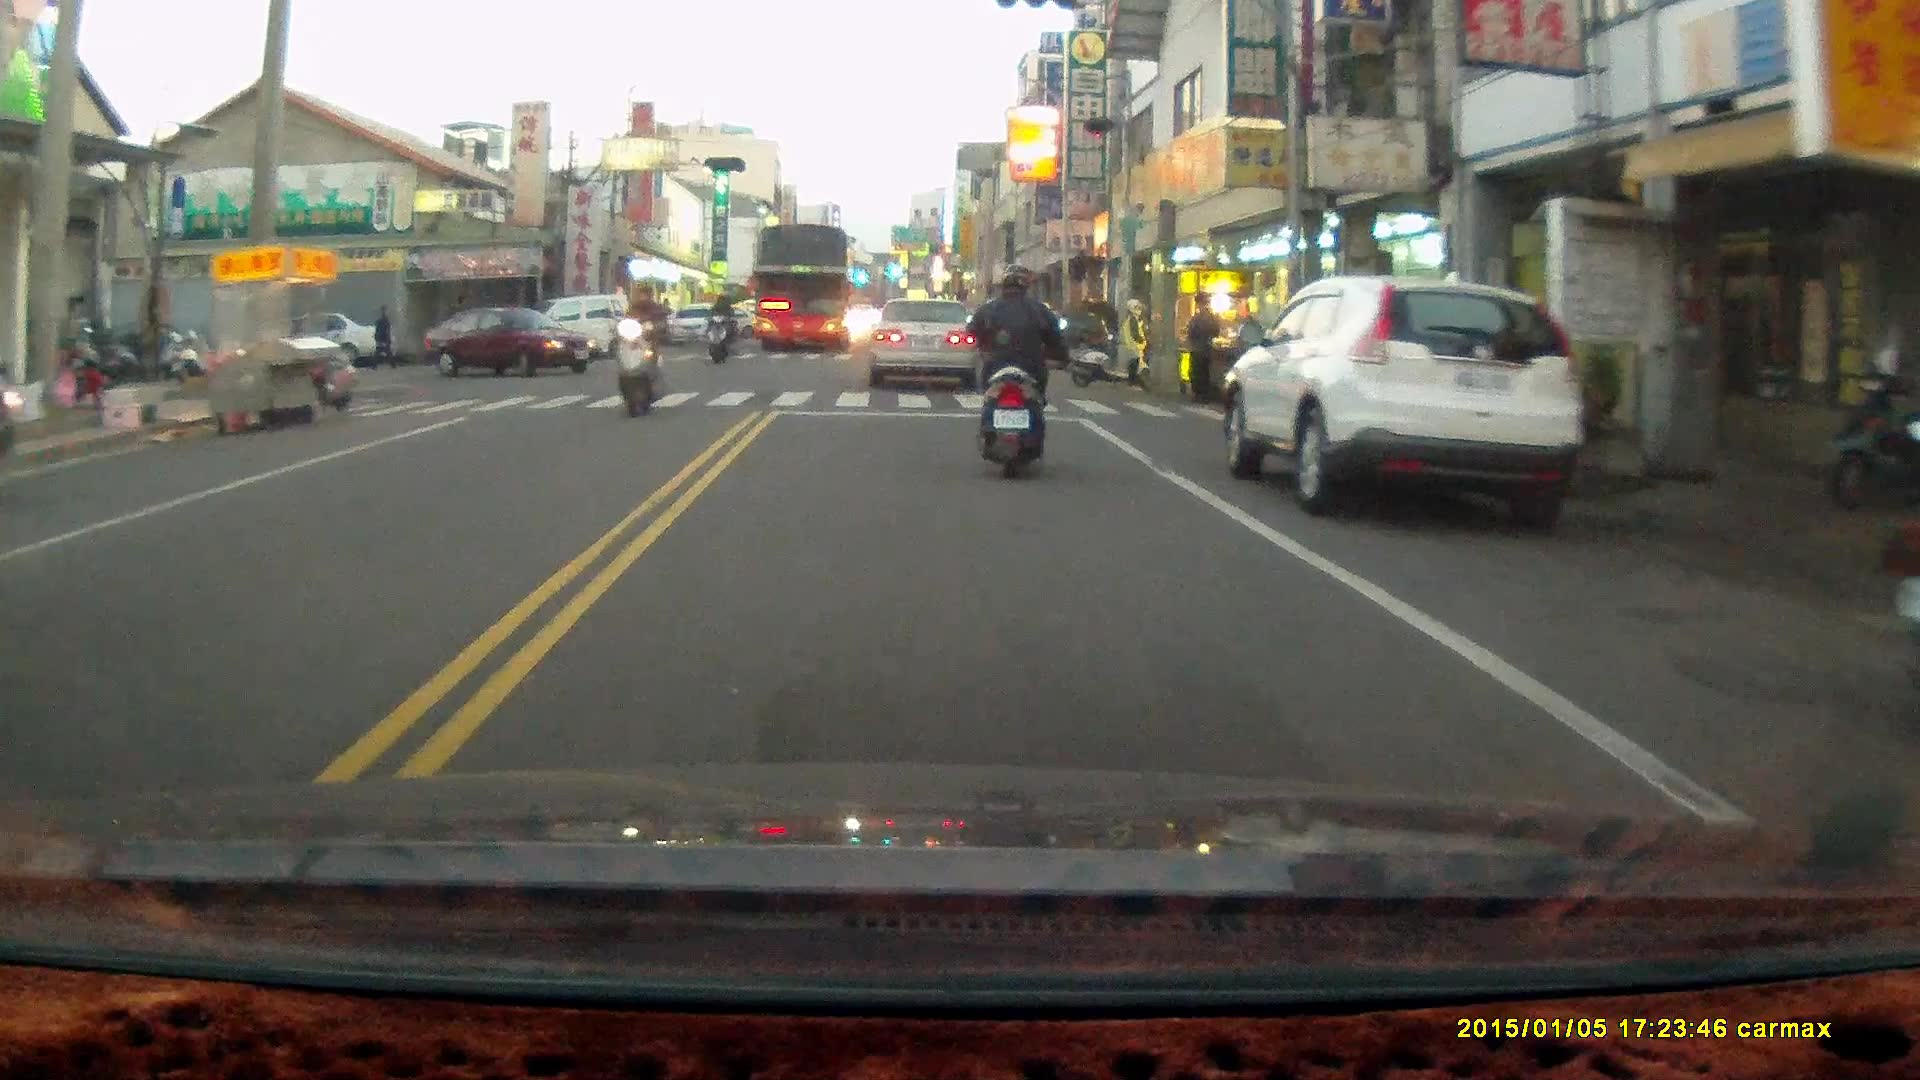pedestrian: (1185, 290, 1218, 405), (1118, 296, 1152, 394), (368, 302, 391, 369)
rider: (961, 261, 1066, 475), (606, 278, 664, 419), (705, 291, 732, 364)
vehicle: (1223, 275, 1586, 520), (741, 225, 857, 353), (430, 303, 594, 379), (866, 298, 978, 392), (236, 311, 392, 368)
